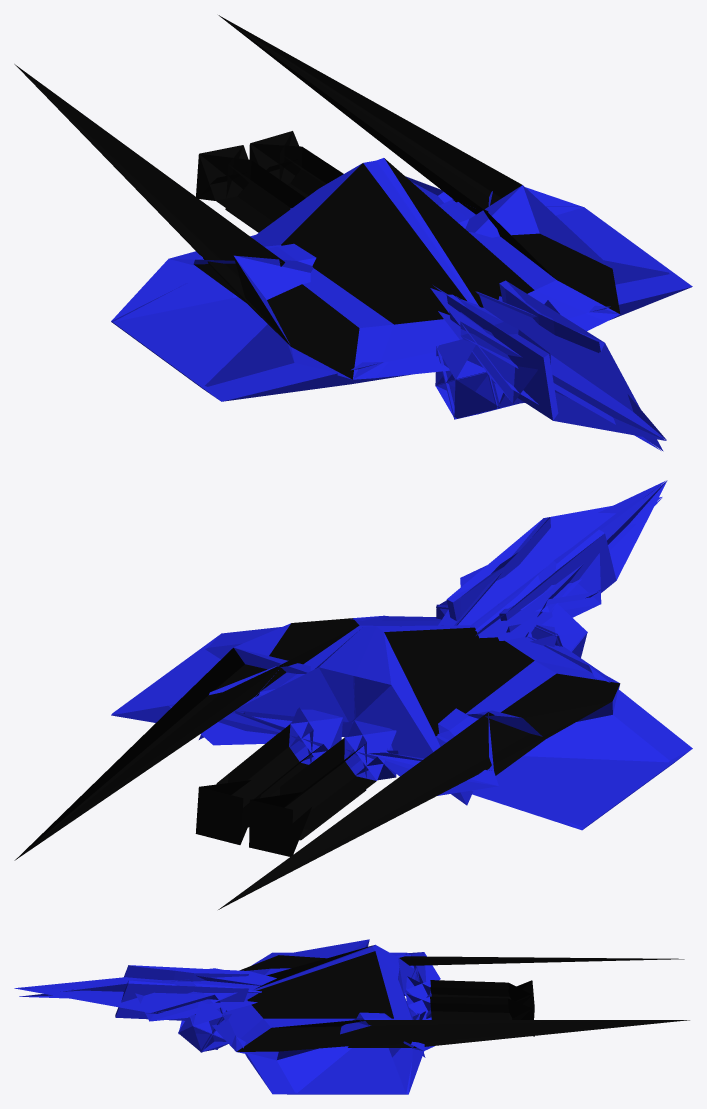
File: blue3.fbx
3 views of the same model, one above another, from view 1: azimuth 30°, elevation 25°; view 2: azimuth 150°, elevation 25°; view 3: azimuth 270°, elevation 25° (orthographic). The views are drawn at different scales.
Parts seen in each view (by area): view 1: Cube; view 2: Cube; view 3: Cube.
Part boxes in pixels (x1=…): Cube: x1=14, y1=15, x2=692, y2=451; Cube: x1=14, y1=480, x2=692, y2=909; Cube: x1=14, y1=939, x2=689, y2=1094.
Size of the model in its own units: 441 by 139 by 894.
